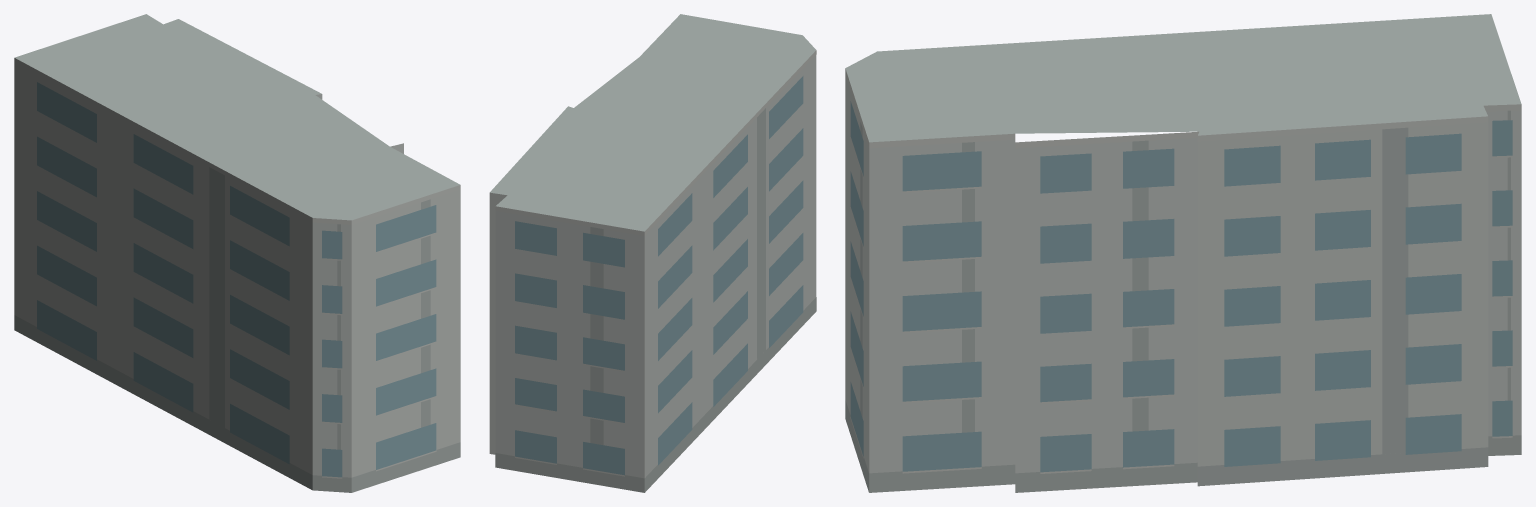
The model's file is survey-upis-32611050.glb.
3 renders of one model, left to right at view 1: azimuth 30°, elevation 25°; view 2: azimuth 150°, elevation 25°; view 3: azimuth 270°, elevation 25°, orthographic. The views are drawn at different scales.
Visible parts, largest first — view 1: survey-upis-32611050.tmp; view 2: survey-upis-32611050.tmp; view 3: survey-upis-32611050.tmp.
Part boxes in pixels (<box>): survey-upis-32611050.tmp: <box>14,14,460,492</box>; survey-upis-32611050.tmp: <box>489,14,816,492</box>; survey-upis-32611050.tmp: <box>845,14,1521,492</box>.
Bounding box in the file's own units: 11.24 × 14.3 × 25.01.
